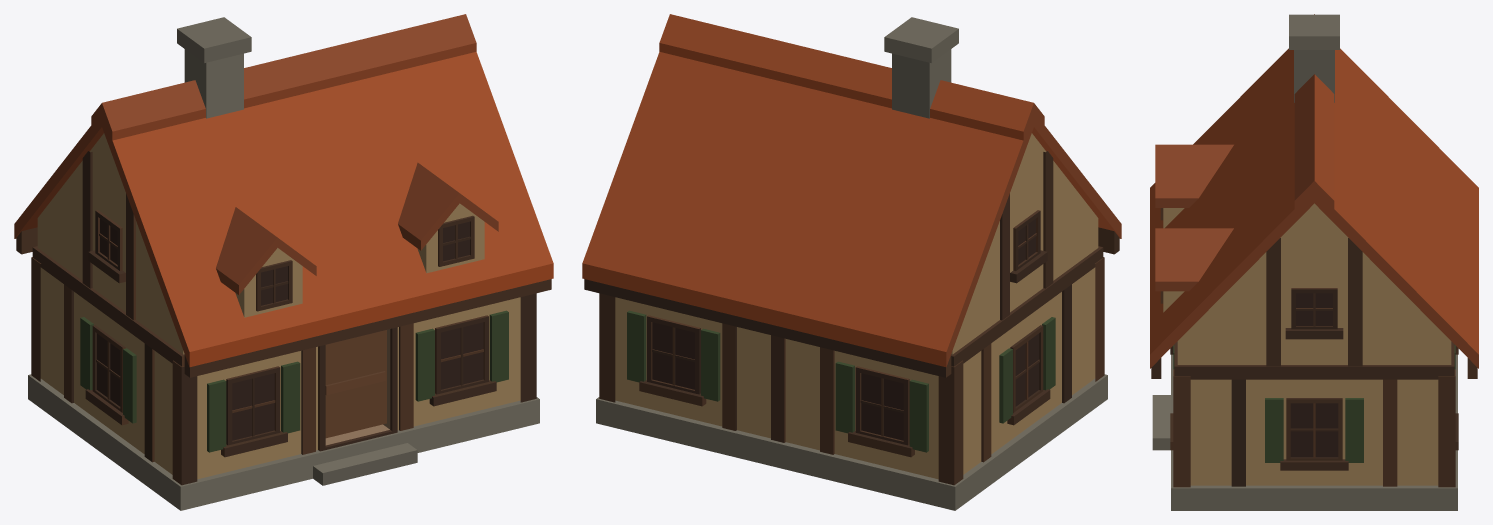
File: gabled-farmhouse-c7534f.glb
3 renders of one model, left to right at view 1: azimuth 30°, elevation 25°; view 2: azimuth 150°, elevation 25°; view 3: azimuth 270°, elevation 25°, orthographic. The views are drawn at different scales.
Parts seen in each view (by area): view 1: object 1, door; view 2: object 1; view 3: object 1.
Boxes of the visible parts, box(x1,y1,x2,y2) form: object 1: box(14, 14, 553, 510); door: box(325, 330, 386, 438); object 1: box(582, 14, 1121, 510); object 1: box(1150, 14, 1478, 510).
Size of the model in its own units: 6 by 6.23 by 5.
